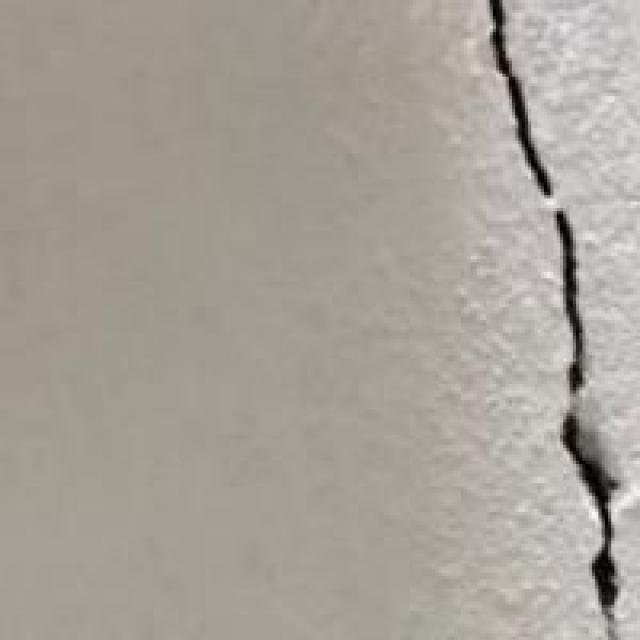Crack: (394, 0, 637, 637)
